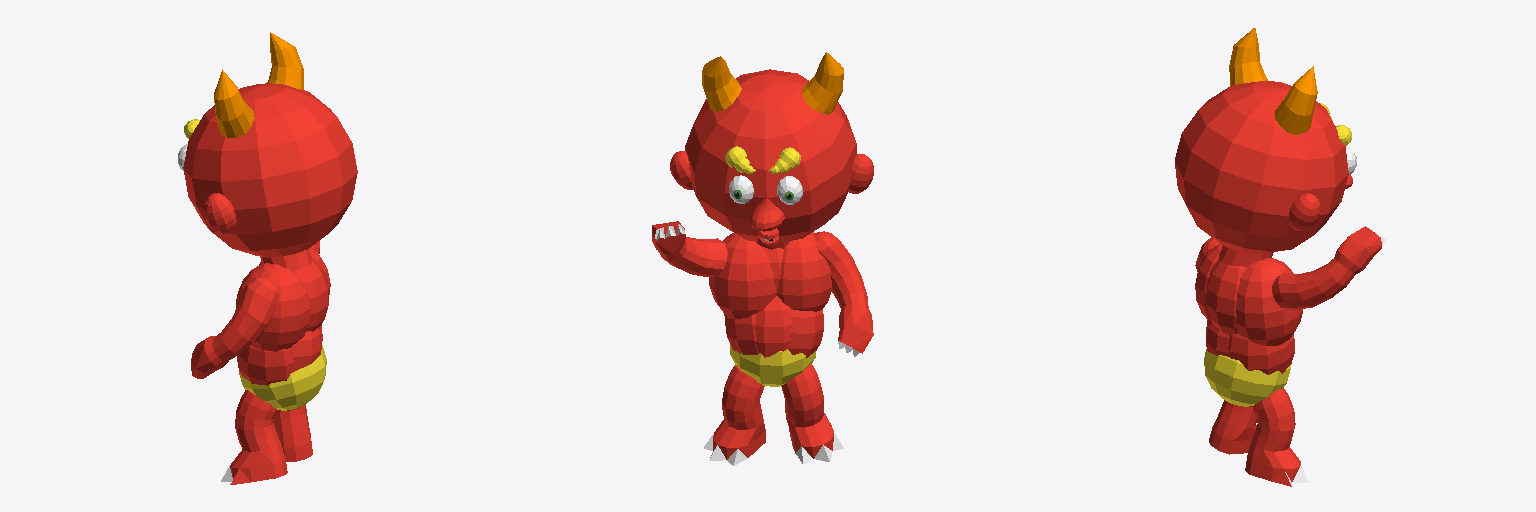
3 renders of one model, left to right at view 1: azimuth 30°, elevation 25°; view 2: azimuth 150°, elevation 25°; view 3: azimuth 270°, elevation 25°, orthographic.
Visible parts, largest first — view 1: group[number redacted], group[number redacted], group[number redacted], group[number redacted], group[number redacted], group[number redacted], group[number redacted], group[number redacted], group[number redacted], group[number redacted], group[number redacted], group[number redacted] (+1 smaller); view 2: group[number redacted], group[number redacted], group[number redacted], group[number redacted], group[number redacted], group[number redacted], group[number redacted], group[number redacted], group[number redacted], group[number redacted], group[number redacted], group[number redacted] (+6 smaller); view 3: group[number redacted], group[number redacted], group[number redacted], group[number redacted], group[number redacted], group[number redacted], group[number redacted], group[number redacted], group[number redacted], group[number redacted], group[number redacted], group[number redacted] (+2 smaller).
Part boxes in pixels (x1,y1,x2,y2): group[number redacted]: (183, 83, 357, 257); group[number redacted]: (191, 276, 279, 378); group[number redacted]: (221, 390, 287, 484); group[number redacted]: (235, 263, 310, 351); group[number redacted]: (239, 345, 326, 410); group[number redacted]: (237, 345, 297, 385); group[number redacted]: (214, 69, 254, 137); group[number redacted]: (274, 404, 312, 461); group[number redacted]: (267, 32, 303, 89); group[number redacted]: (294, 257, 328, 331); group[number redacted]: (204, 193, 236, 233); group[number redacted]: (293, 327, 321, 371); group[number redacted]: (685, 69, 856, 242); group[number redacted]: (709, 233, 776, 318); group[number redacted]: (704, 365, 765, 465); group[number redacted]: (814, 231, 873, 356); group[number redacted]: (781, 364, 843, 464); group[number redacted]: (777, 232, 831, 311); group[number redacted]: (652, 221, 727, 276); group[number redacted]: (730, 344, 815, 386); group[number redacted]: (749, 296, 792, 357); group[number redacted]: (801, 52, 843, 114); group[number redacted]: (702, 56, 741, 111); group[number redacted]: (788, 309, 823, 357); group[number redacted]: (1175, 80, 1348, 253); group[number redacted]: (1272, 226, 1385, 309); group[number redacted]: (1236, 258, 1302, 345); group[number redacted]: (1245, 388, 1308, 486); group[number redacted]: (1204, 349, 1290, 406); group[number redacted]: (1206, 258, 1246, 333); group[number redacted]: (1209, 400, 1256, 454); group[number redacted]: (1274, 66, 1317, 134); group[number redacted]: (1228, 333, 1294, 374); group[number redacted]: (1229, 28, 1267, 85); group[number redacted]: (1288, 193, 1320, 230); group[number redacted]: (1195, 244, 1222, 320).
Size of the model in its own units: 0.8098 by 1.92 by 0.8901.